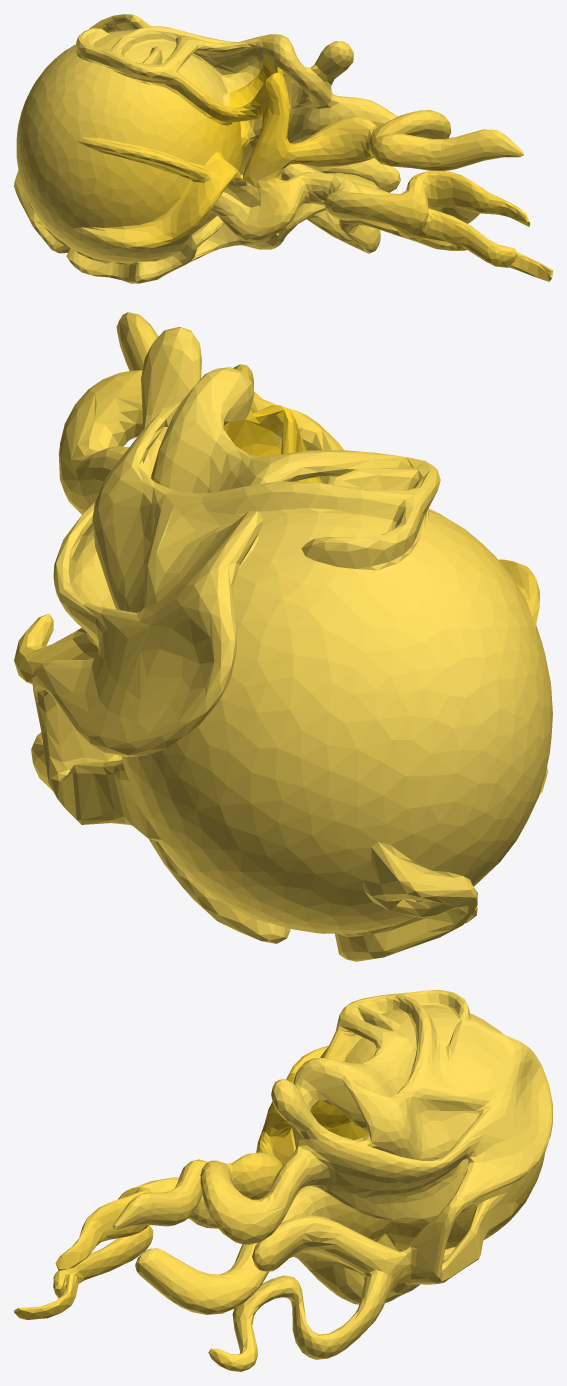
The picture shows the model from 3 angles, top to bottom: view 1: azimuth 30°, elevation 25°; view 2: azimuth 150°, elevation 25°; view 3: azimuth 270°, elevation 25°; orthographic projection. The views are drawn at different scales.
Bounding box in the file's own units: 2.61 × 1.7 × 3.17.
Materials: 1 (1 with a texture image).
